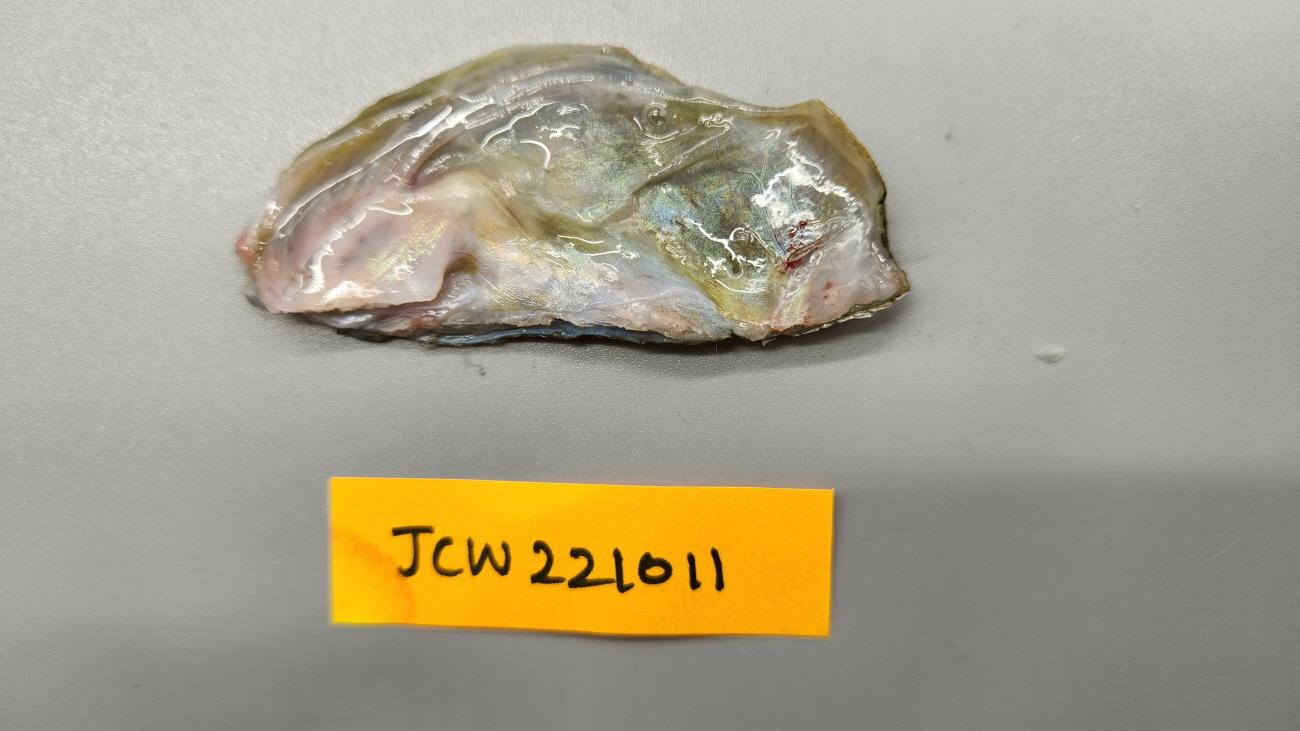POGCN: (235, 43, 910, 348)
